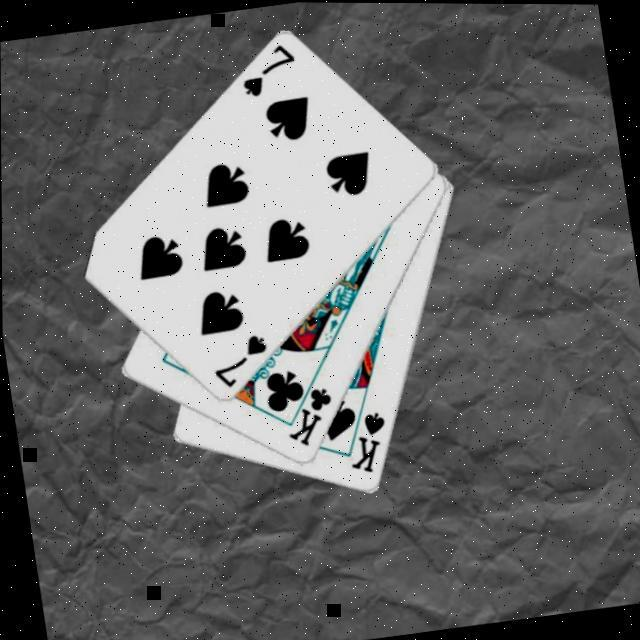7S: (206, 328, 275, 392), (234, 37, 303, 100)
KC: (277, 370, 341, 451)
KS: (340, 406, 395, 478)
